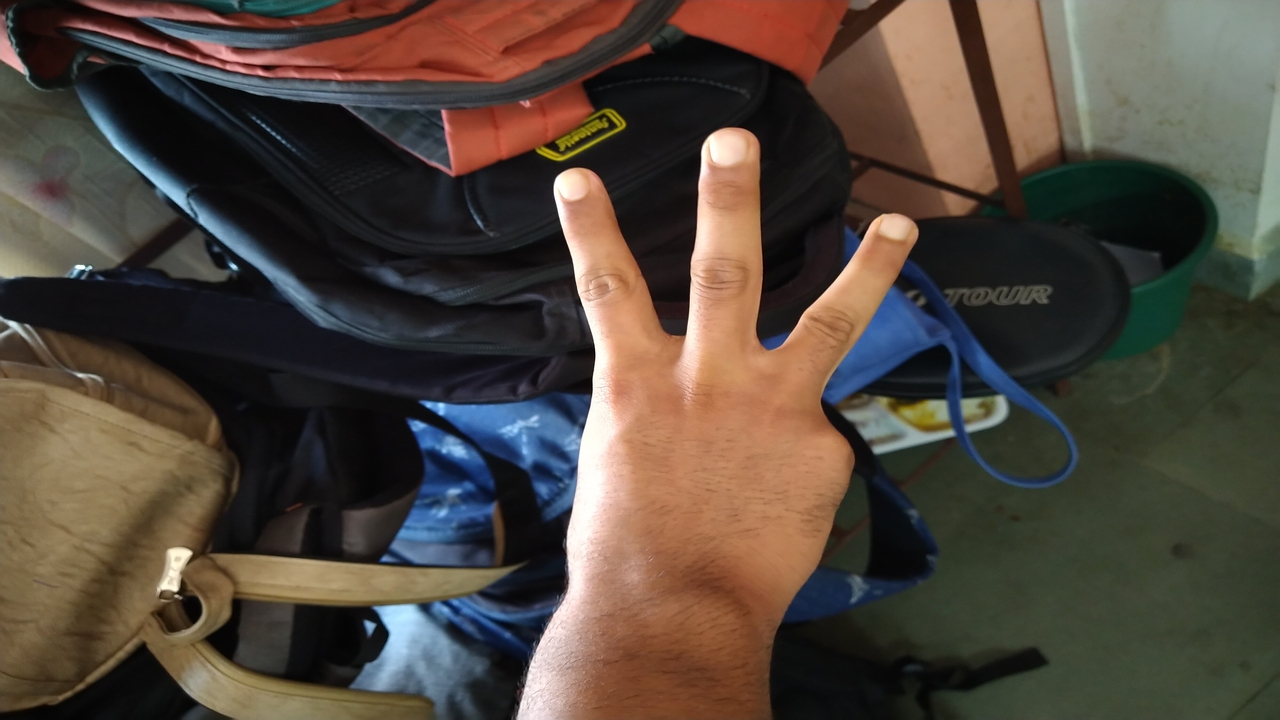fingertip: (856, 202, 932, 262), (546, 158, 614, 220), (696, 120, 758, 186)
